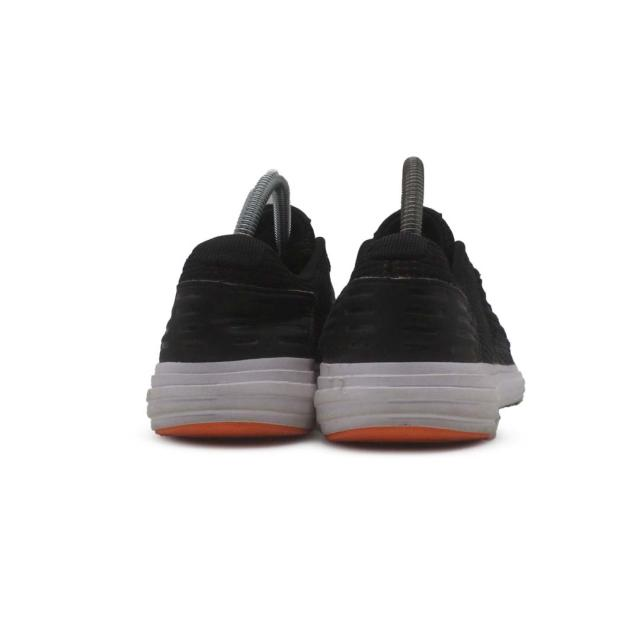heel: (328, 233, 481, 364), (160, 241, 316, 361)
midsole: (320, 362, 526, 443), (145, 358, 323, 431)
